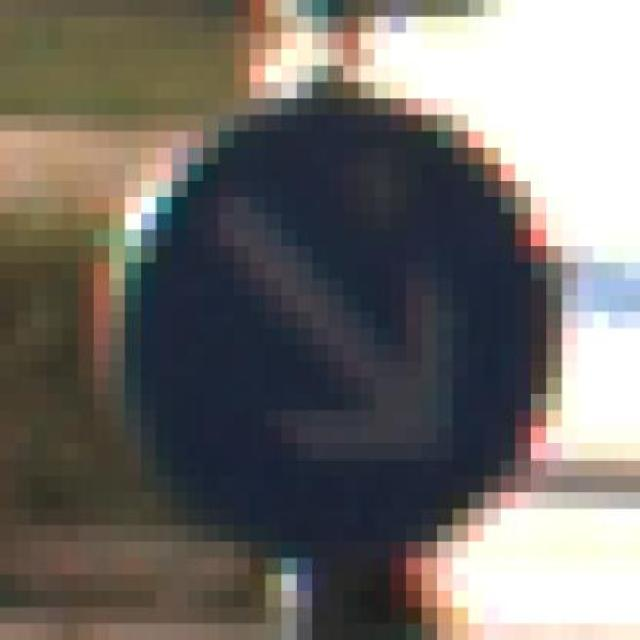Keep-Right: (108, 65, 578, 607)
